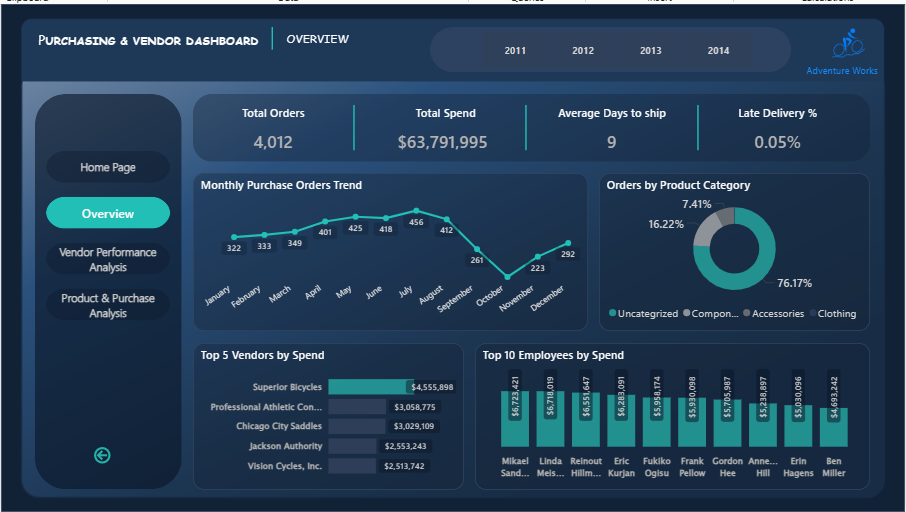

The page's visual inventory and layout, read from the dashboard file:
{"tool":"powerbi","page":{"name":"Overview","canvas":[1280,720],"ordinal":1},"visuals":[{"type":"shape","box":[48,128,208,560],"z":0},{"type":"shape","box":[272,128,959.7,96],"z":0,"group":"g1"},{"type":"cardVisual","title":"Total Orders","fields":{"Data":["MeasureGroup.Total Orders"]},"box":[304.5,144,162.7,80],"z":1000,"group":"g1"},{"type":"stackedAreaChart","title":"Monthly Purchase Orders Trend ","fields":{"Category":["Purchasing vw_Dim_Date.MonthName"],"Y":["MeasureGroup.Total Orders"]},"box":[272,240,560,224],"z":1000},{"type":"shape","box":[608,32,512,64],"z":2000},{"type":"cardVisual","title":"Average Days to ship","fields":{"Data":["MeasureGroup.AverageDays To ship"]},"box":[776.3,144,178.9,80],"z":2000,"group":"g1"},{"type":"textbox","box":[48,32,336,48],"z":3000,"group":"g3"},{"type":"slicer","fields":{"Values":["Purchasing vw_Dim_Date.Year"]},"box":[656,32,432,64],"z":3000},{"type":"cardVisual","title":"Total Spend","fields":{"Data":["MeasureGroup.Total Spend"]},"box":[532.3,144,195.2,80],"z":3000,"group":"g1"},{"type":"shape","box":[368,32,32,32],"z":4000,"group":"g3"},{"type":"cardVisual","title":"Late Delivery %","fields":{"Data":["MeasureGroup.Late Delivery%"]},"box":[1004,144,195.2,80],"z":4000,"group":"g1"},{"type":"barChart","title":"Top 5 Vendors by Spend","fields":{"Y":["MeasureGroup.Total Spend"],"Category":["Purchasing vw_Dim_Vendor.VendorName"]},"box":[272,480,384,208],"z":4000},{"type":"textbox","box":[400,32,160,48],"z":5000,"group":"g3"},{"type":"shape","box":[467.2,144,65.1,64],"z":5000,"group":"g1"},{"type":"columnChart","title":"Top 10 Employees by  Spend","fields":{"Y":["MeasureGroup.Total Spend"],"Category":["Purchasing vw_Dim_Employee.EmployeeName"]},"box":[672,480,560,208],"z":5000},{"type":"shape","box":[711.2,144,65.1,64],"z":6000,"group":"g1"},{"type":"donutChart","title":"Orders by Product Category","fields":{"Category":["Purchasing vw_Dim_Product.CategoryName"],"Y":["MeasureGroup.Total Orders"]},"box":[848,240,384,224],"z":6000},{"type":"image","box":[1168,32,64,48],"z":7000,"group":"g2"},{"type":"group","id":"g1","title":"Group 1","box":[272,128,976,96],"z":7000},{"type":"shape","box":[955.2,144,65.1,64],"z":7000,"group":"g1"},{"type":"group","id":"g2","title":"Group 2","box":[1136,32,112,80],"z":8000},{"type":"textbox","box":[1136,80,112,32],"z":8000,"group":"g2"},{"type":"group","id":"g3","title":"Group 3","box":[48,32,512,48],"z":9000},{"type":"pageNavigator","box":[64,208,176,240],"z":10000},{"type":"actionButton","box":[128,624,32,32],"z":11000}]}

Visuals, with their boxes in screenshot pixels (x1, y1, x2, y2), scaled from the page's 1280x720 canvas onto the 906x512 screenshot:
shape: <bbox>34, 91, 181, 489</bbox>
shape: <bbox>193, 91, 872, 159</bbox>
"Total Orders" cardVisual: <bbox>216, 102, 331, 159</bbox>
"Monthly Purchase Orders Trend " stackedAreaChart: <bbox>193, 171, 589, 330</bbox>
shape: <bbox>430, 23, 793, 68</bbox>
"Average Days to ship" cardVisual: <bbox>549, 102, 676, 159</bbox>
textbox: <bbox>34, 23, 272, 57</bbox>
slicer - Purchasing vw_Dim_Date.Year: <bbox>464, 23, 770, 68</bbox>
"Total Spend" cardVisual: <bbox>377, 102, 515, 159</bbox>
shape: <bbox>260, 23, 283, 46</bbox>
"Late Delivery %" cardVisual: <bbox>711, 102, 849, 159</bbox>
"Top 5 Vendors by Spend" barChart: <bbox>193, 341, 464, 489</bbox>
textbox: <bbox>283, 23, 396, 57</bbox>
shape: <bbox>331, 102, 377, 148</bbox>
"Top 10 Employees by  Spend" columnChart: <bbox>476, 341, 872, 489</bbox>
shape: <bbox>503, 102, 549, 148</bbox>
"Orders by Product Category" donutChart: <bbox>600, 171, 872, 330</bbox>
image: <bbox>827, 23, 872, 57</bbox>
"Group 1" group: <bbox>193, 91, 883, 159</bbox>
shape: <bbox>676, 102, 722, 148</bbox>
"Group 2" group: <bbox>804, 23, 883, 80</bbox>
textbox: <bbox>804, 57, 883, 80</bbox>
"Group 3" group: <bbox>34, 23, 396, 57</bbox>
pageNavigator: <bbox>45, 148, 170, 319</bbox>
actionButton: <bbox>91, 444, 113, 466</bbox>
